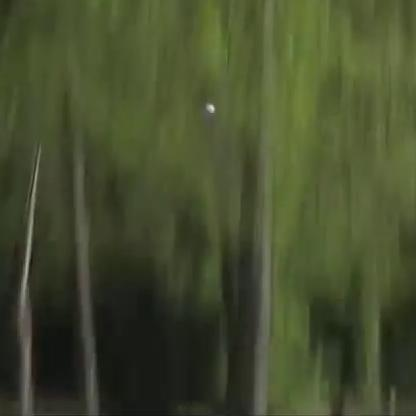golfball: (202, 98, 213, 114)
